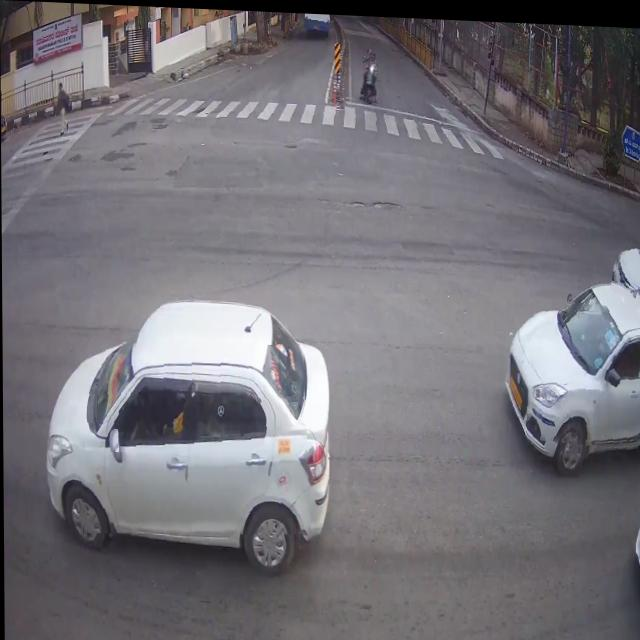Bus: (304, 11, 329, 27)
Car: (76, 337, 309, 538), (526, 294, 640, 443), (611, 226, 640, 291)
Two-wheelers: (361, 49, 378, 99)
